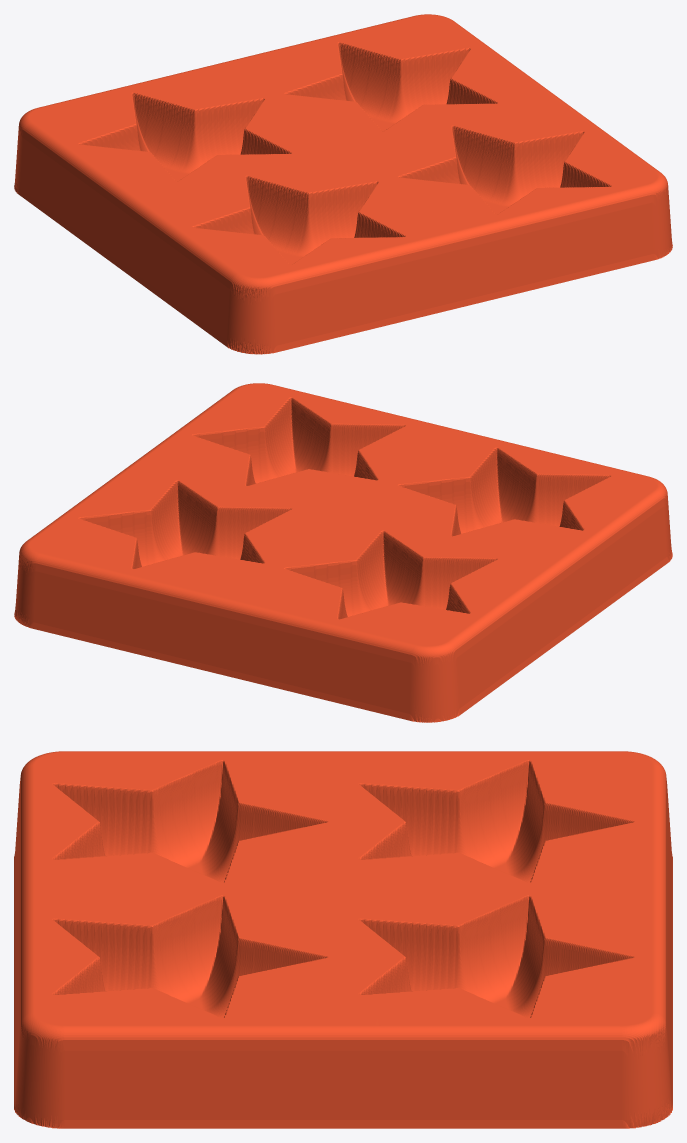
The model's file is mold.glb.
3 views of the same model, one above another, from view 1: azimuth 30°, elevation 25°; view 2: azimuth 150°, elevation 25°; view 3: azimuth 270°, elevation 25° (orthographic). The views are drawn at different scales.
Parts seen in each view (by area): view 1: geometry_0; view 2: geometry_0; view 3: geometry_0.
Boxes of the visible parts, x1,y1,x2,y2 form: geometry_0: (14, 14, 672, 354); geometry_0: (14, 383, 672, 722); geometry_0: (14, 751, 672, 1128).
Bounding box in the file's own units: 0.1218 × 0.0185 × 0.1169.
